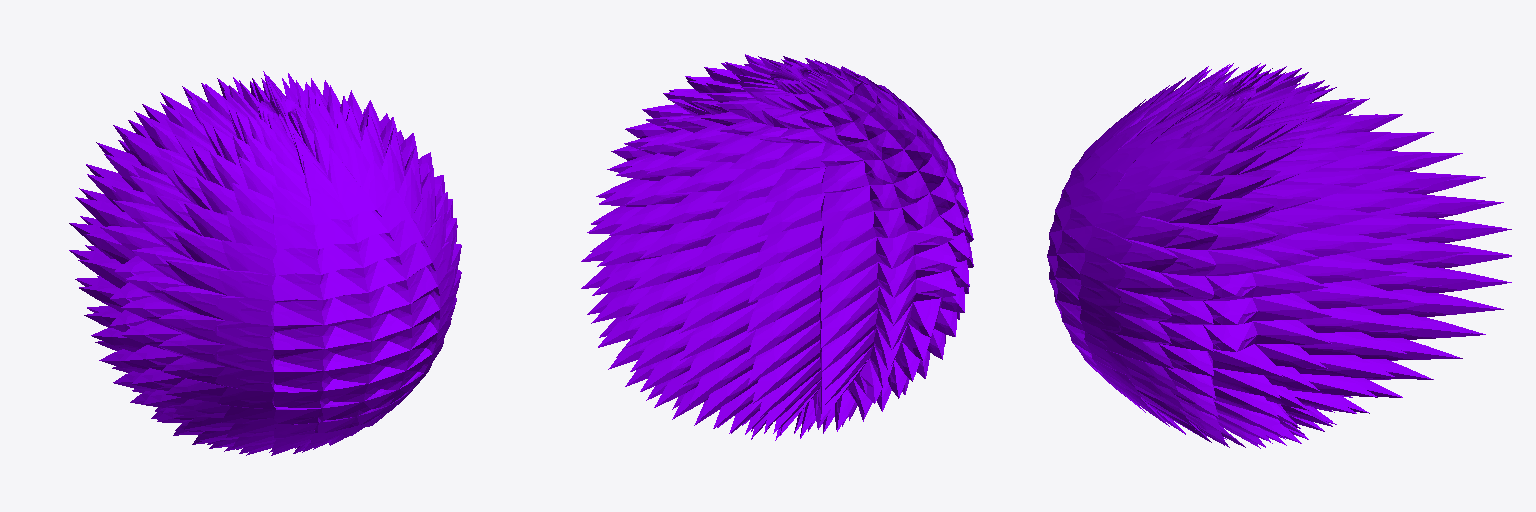
File: aegrum.obj
The picture shows the model from 3 angles: view 1: azimuth 30°, elevation 25°; view 2: azimuth 150°, elevation 25°; view 3: azimuth 270°, elevation 25°; orthographic projection.
Visible parts, largest first — view 1: pSphere1; view 2: pSphere1; view 3: pSphere1.
Part boxes in pixels (left/top/right/bottom): pSphere1: left=69, top=71, right=461, bottom=455; pSphere1: left=581, top=54, right=973, bottom=440; pSphere1: left=1047, top=63, right=1511, bottom=448.
Bounding box in the file's own units: 2.5 × 2.41 × 2.99.